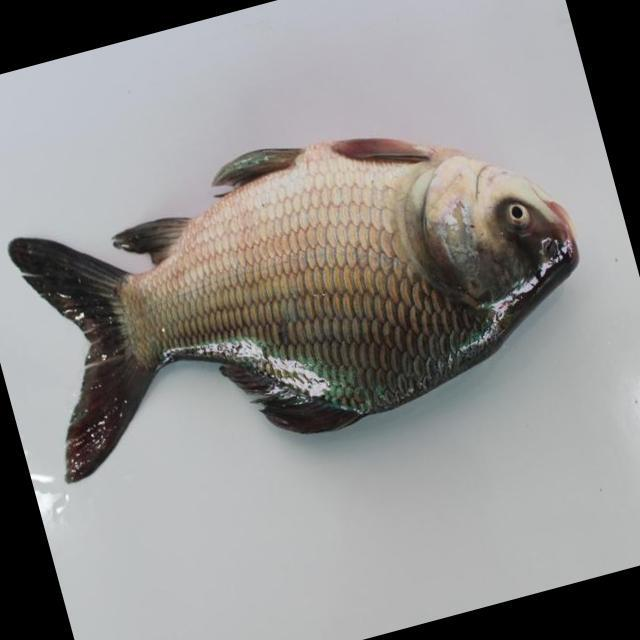Catla: (9, 111, 589, 488)
